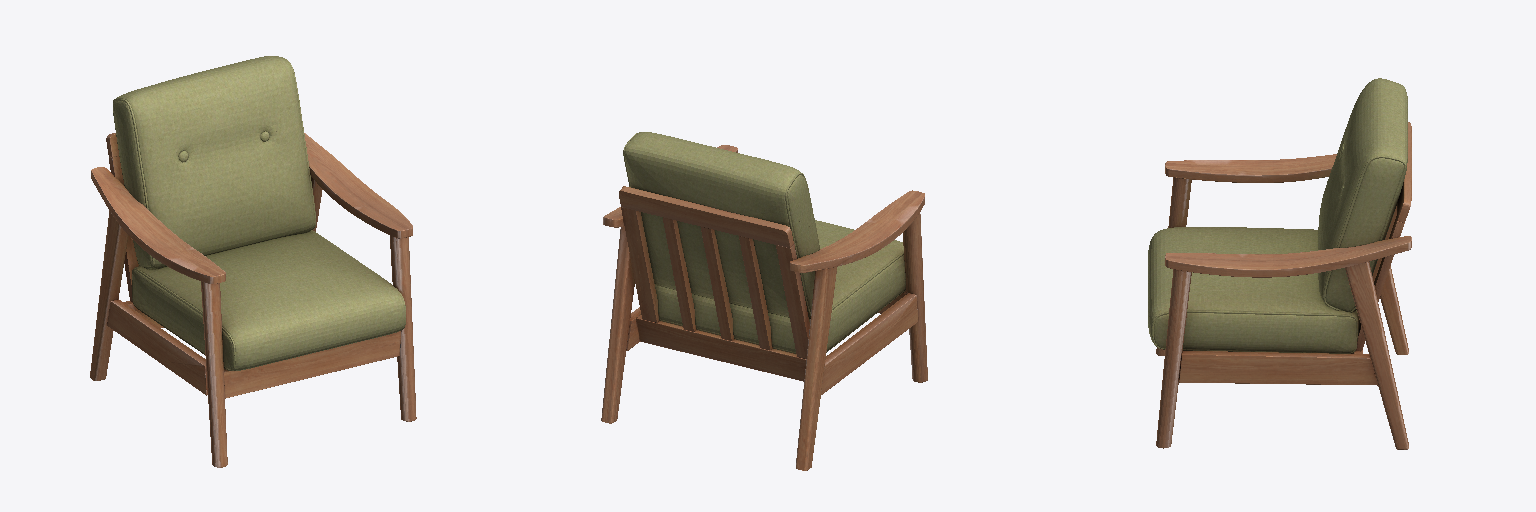
The picture shows the model from 3 angles: view 1: azimuth 30°, elevation 25°; view 2: azimuth 150°, elevation 25°; view 3: azimuth 270°, elevation 25°; orthographic projection.
Visible parts, largest first — view 1: solid_001, solid_002; view 2: solid_002, solid_001; view 3: solid_001, solid_002.
Part boxes in pixels (left/top/right/bottom): solid_001: left=113, top=56, right=405, bottom=370; solid_002: left=90, top=133, right=416, bottom=467; solid_002: left=601, top=145, right=927, bottom=470; solid_001: left=623, top=132, right=905, bottom=353; solid_001: left=1148, top=78, right=1407, bottom=353; solid_002: left=1156, top=122, right=1411, bottom=449.
Bounding box in the file's own units: 1.16 × 1.41 × 1.18.
Materials: 1 (1 with a texture image).